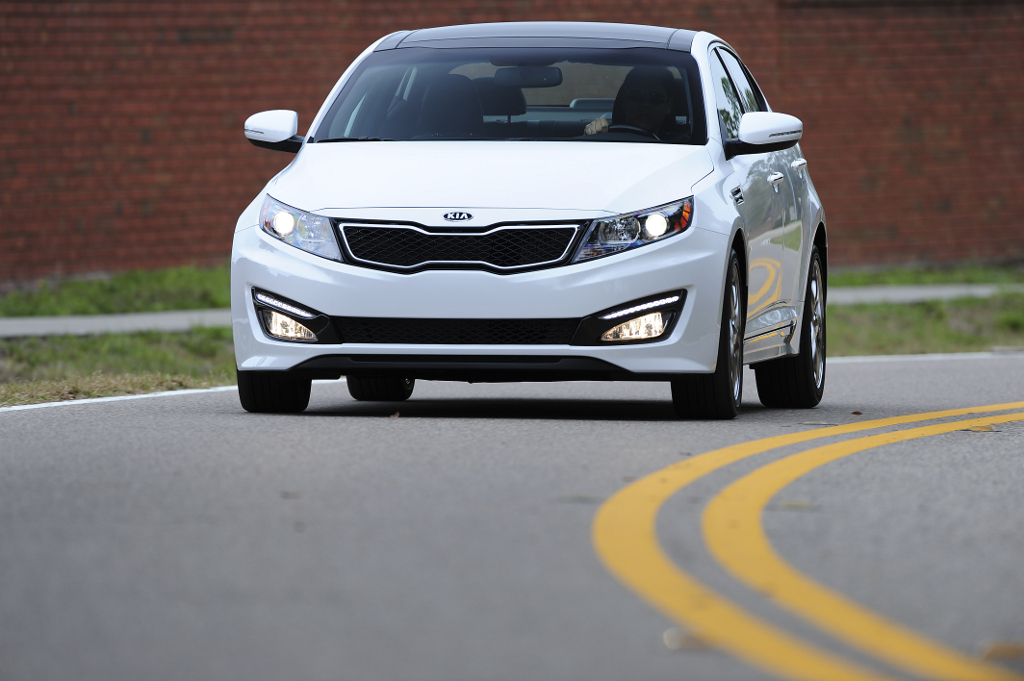Car: (231, 20, 828, 417)
